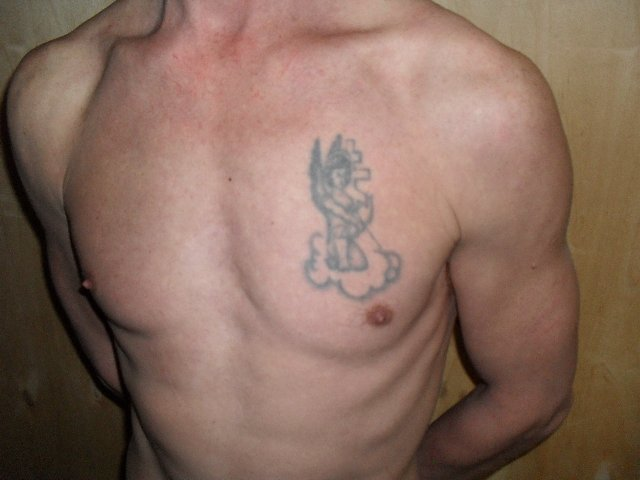tatu1_angel: (298, 126, 404, 298)
